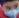with_mask: (2, 2, 19, 18)
